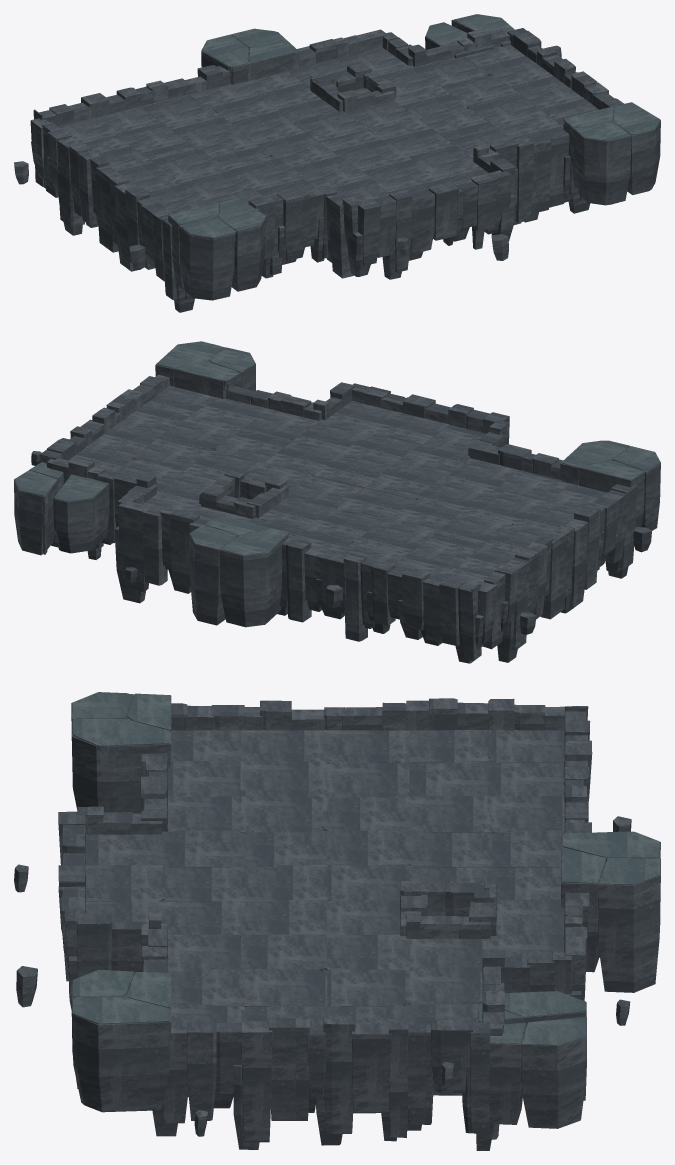
Rendered from chapter2_stage7_geology.glb.
The picture shows the model from 3 angles, top to bottom: view 1: azimuth 30°, elevation 25°; view 2: azimuth 150°, elevation 25°; view 3: azimuth 270°, elevation 25°; orthographic projection. The views are drawn at different scales.
Parts seen in each view (by area): view 1: stage7_continuous_rock_strata; view 2: stage7_continuous_rock_strata; view 3: stage7_continuous_rock_strata.
Boxes of the visible parts, left/top/right/bottom form: stage7_continuous_rock_strata: left=14, top=14, right=660, bottom=312; stage7_continuous_rock_strata: left=14, top=341, right=660, bottom=663; stage7_continuous_rock_strata: left=14, top=692, right=660, bottom=1150.
Bounding box in the file's own units: 10.53 × 1.98 × 7.87.
Materials: 2 (2 with a texture image).
